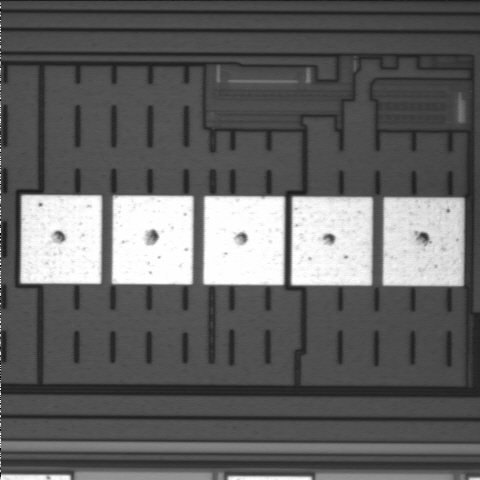pad: (203, 196, 285, 285), (291, 197, 373, 285), (21, 195, 102, 284), (112, 196, 193, 285), (383, 198, 464, 286)
